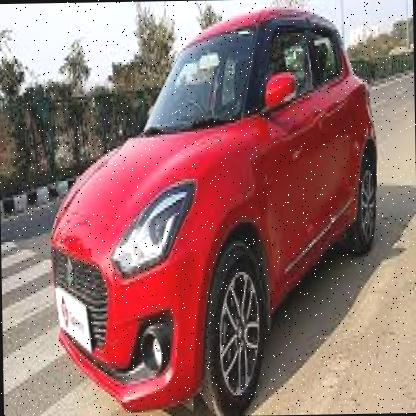car: (32, 1, 383, 416)
